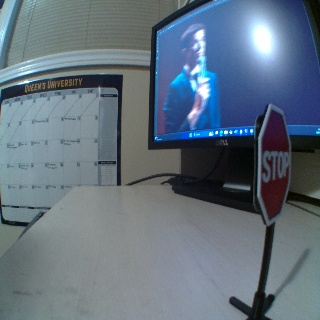sign_stop: (260, 105, 291, 223)
